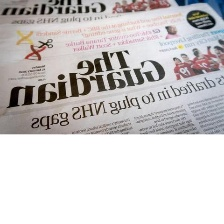news_paper: (0, 0, 224, 134), (0, 0, 183, 28)
